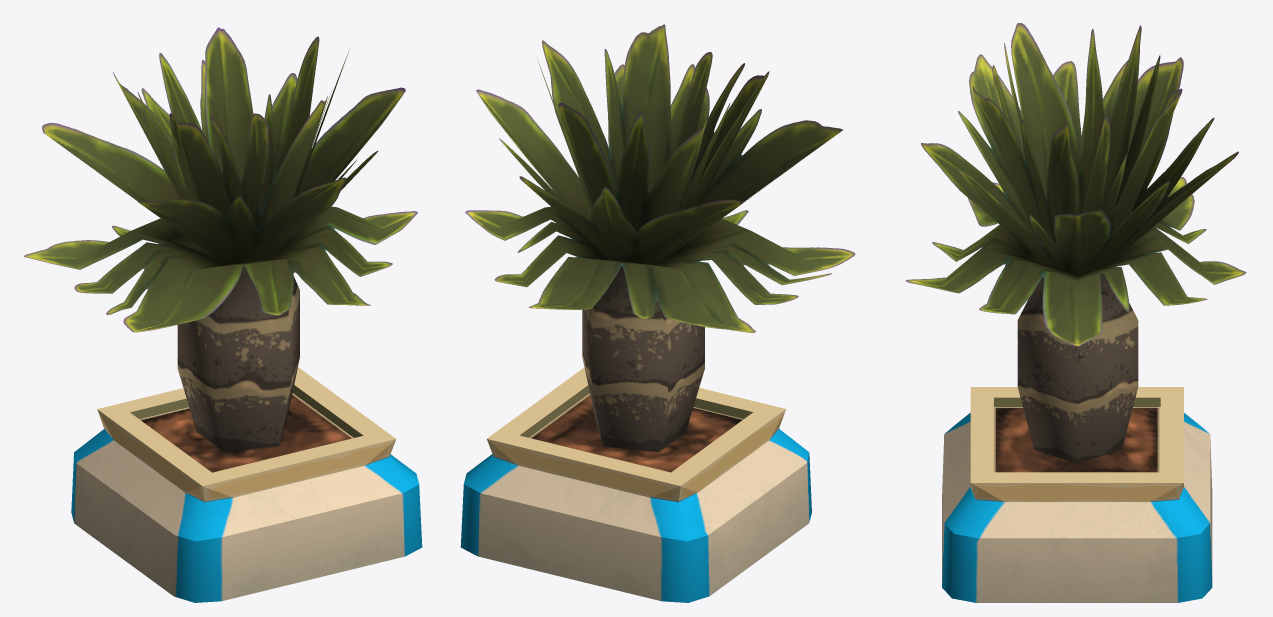
The model's file is arbre.fbx.
3 renders of one model, left to right at view 1: azimuth 30°, elevation 25°; view 2: azimuth 150°, elevation 25°; view 3: azimuth 270°, elevation 25°, orthographic.
Parts seen in each view (by area): view 1: banc1; view 2: banc1; view 3: banc1.
Boxes of the visible parts, x1,y1,x2,y2 form: banc1: (24,27,422,602); banc1: (460,24,855,602); banc1: (905,23,1246,602).
Bounding box in the file's own units: 0.9682 × 1.21 × 0.8371.
